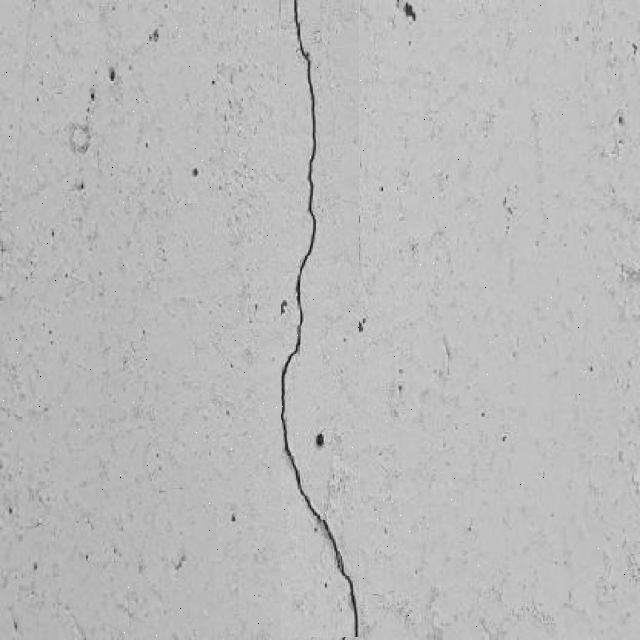crack: (266, 7, 627, 632), (277, 0, 361, 639), (40, 10, 105, 384), (288, 0, 319, 342)
